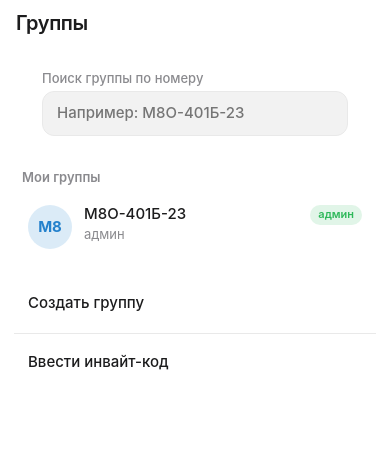
Test: GroupsScreen: поиск с дебаунсом › совпадения только среди моих групп — подсказка «уже в ваших», а не «не найдено»
The image size is (390, 449).
Expected: the button with test id "group-42" is shown, [14,193,376,261]
Type "М8О" into the field with test id "field-search" at (195, 114), box [42,91,348,136]
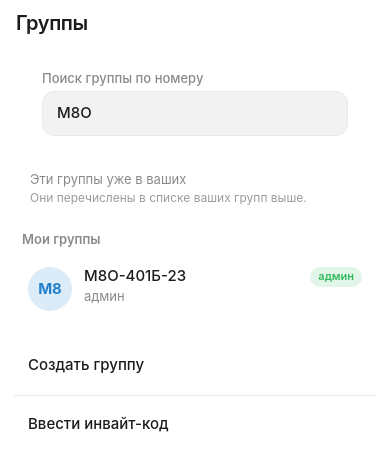
Result: the element with test id "search-all-mine" is shown at [30,171,307,205]
